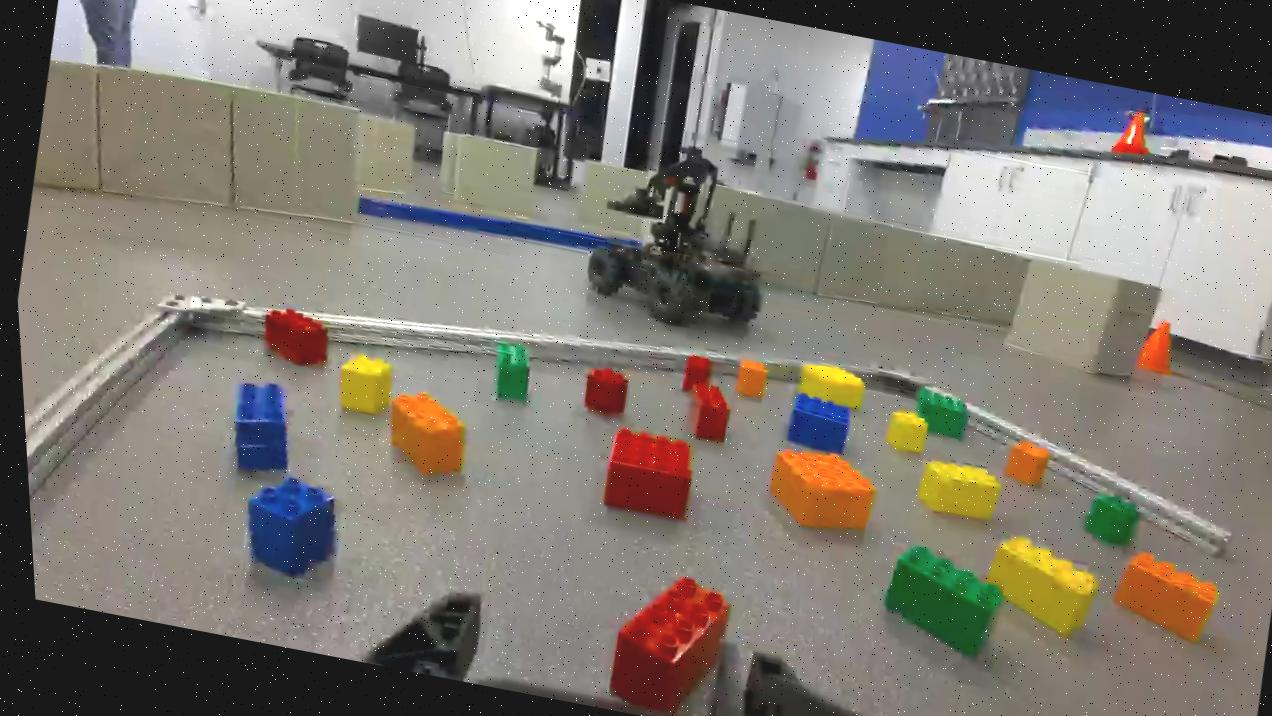2x2lego: (226, 470, 345, 586), (324, 345, 393, 420), (1073, 488, 1137, 549), (571, 361, 630, 423), (993, 433, 1047, 492), (875, 402, 925, 455), (727, 358, 766, 403), (674, 352, 709, 394)
2x4lego: (592, 563, 734, 716), (867, 534, 1009, 663), (974, 529, 1100, 644), (1099, 546, 1219, 646), (591, 424, 698, 523), (211, 373, 303, 484), (372, 387, 473, 483), (904, 454, 1001, 528), (247, 300, 335, 372), (676, 378, 733, 448), (482, 338, 536, 408)
4x4lego: (752, 440, 878, 542), (776, 389, 852, 458), (787, 355, 866, 412), (904, 382, 970, 438)
